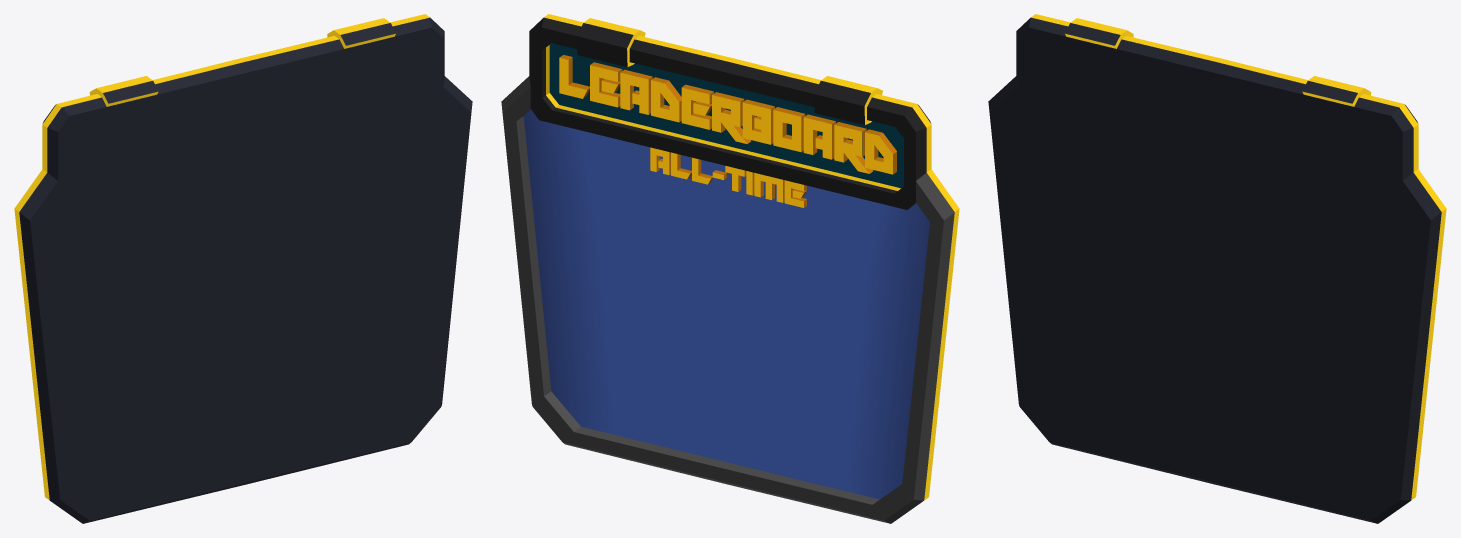
File: scoreboard.03.gltf
The picture shows the model from 3 angles, left to right: view 1: azimuth 30°, elevation 25°; view 2: azimuth 150°, elevation 25°; view 3: azimuth 330°, elevation 25°; orthographic projection.
Parts seen in each view (by area): view 1: scoreboard.003; view 2: scoreboard.003, Text.008, Text.010; view 3: scoreboard.003.
Boxes of the visible parts, <box> form: scoreboard.003: <box>14,14,472,523</box>; scoreboard.003: <box>501,14,959,523</box>; Text.008: <box>559,55,896,174</box>; Text.010: <box>650,147,806,207</box>; scoreboard.003: <box>988,14,1446,523</box>.
Bounding box in the file's own units: 3.6 × 3.25 × 0.2576.
2 materials, 2 textured.
